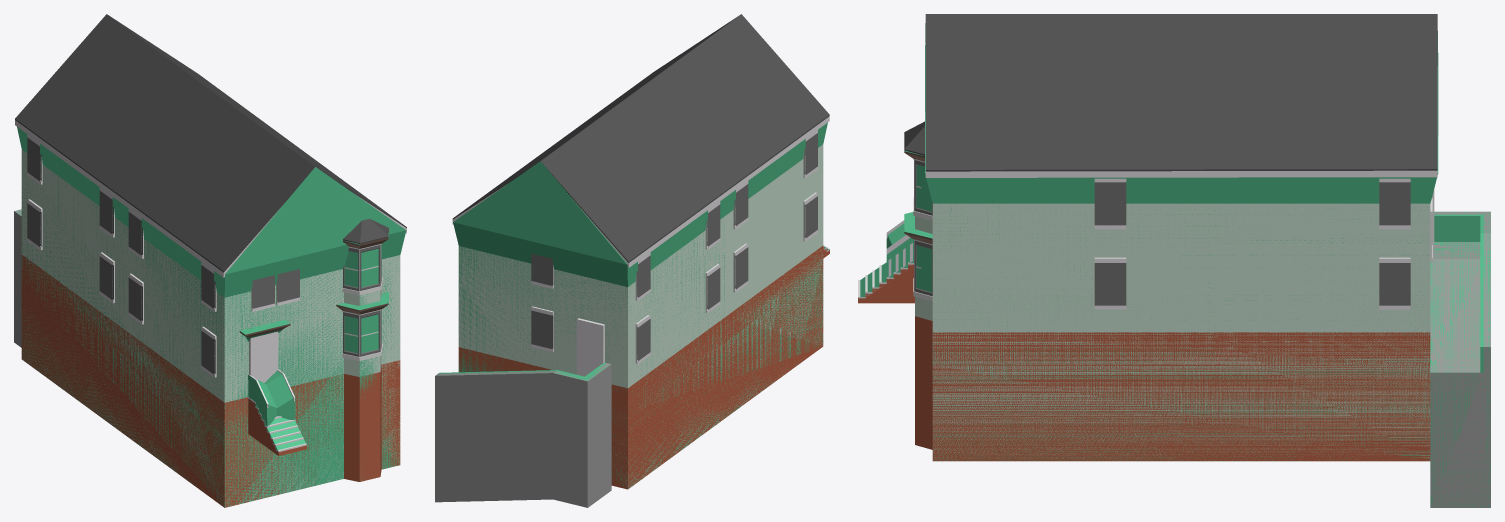
Rendered from eca_bld_house_05_c.dae.
3 views of the same model, side by side, from view 1: azimuth 30°, elevation 25°; view 2: azimuth 150°, elevation 25°; view 3: azimuth 270°, elevation 25° (orthographic). The views are drawn at different scales.
Parts seen in each view (by area): view 1: ind_bld_a100, Colmesh-1, ind_bld_a60, ind_bld_a400; view 2: ind_bld_a100, Colmesh-1, ind_bld_a400, ind_bld_a60; view 3: ind_bld_a100, ind_bld_a60, Colmesh-1, ind_bld_a400.
Boxes of the visible parts, box(x1,y1,x2,y2) form: ind_bld_a100: box(14, 14, 406, 507); Colmesh-1: box(14, 127, 406, 507); ind_bld_a60: box(21, 150, 400, 505); ind_bld_a400: box(15, 119, 401, 451); ind_bld_a100: box(435, 14, 829, 507); Colmesh-1: box(438, 122, 828, 488); ind_bld_a400: box(453, 115, 829, 387); ind_bld_a60: box(459, 148, 823, 488); ind_bld_a100: box(858, 14, 1490, 507); ind_bld_a60: box(932, 203, 1430, 460); Colmesh-1: box(860, 23, 1490, 507); ind_bld_a400: box(858, 149, 1437, 331).
Bounding box in the file's own units: 7.29 × 17.8 × 13.7.
